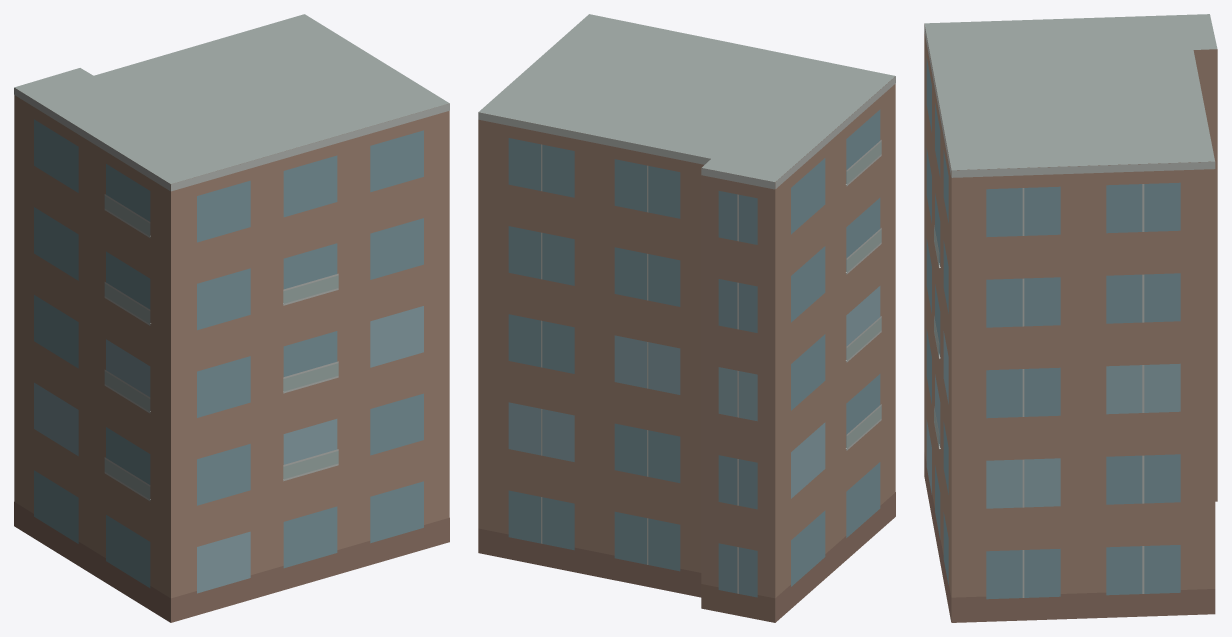
The model's file is survey-upis-32735898.glb.
3 renders of one model, left to right at view 1: azimuth 30°, elevation 25°; view 2: azimuth 150°, elevation 25°; view 3: azimuth 270°, elevation 25°, orthographic. The views are drawn at different scales.
Parts seen in each view (by area): view 1: survey-upis-32735898.tmp; view 2: survey-upis-32735898.tmp; view 3: survey-upis-32735898.tmp.
Part boxes in pixels (<box>): survey-upis-32735898.tmp: <box>14,14,449,622</box>; survey-upis-32735898.tmp: <box>478,14,895,622</box>; survey-upis-32735898.tmp: <box>924,14,1217,622</box>.
Size of the model in its own units: 10.82 by 14.6 by 8.58.
